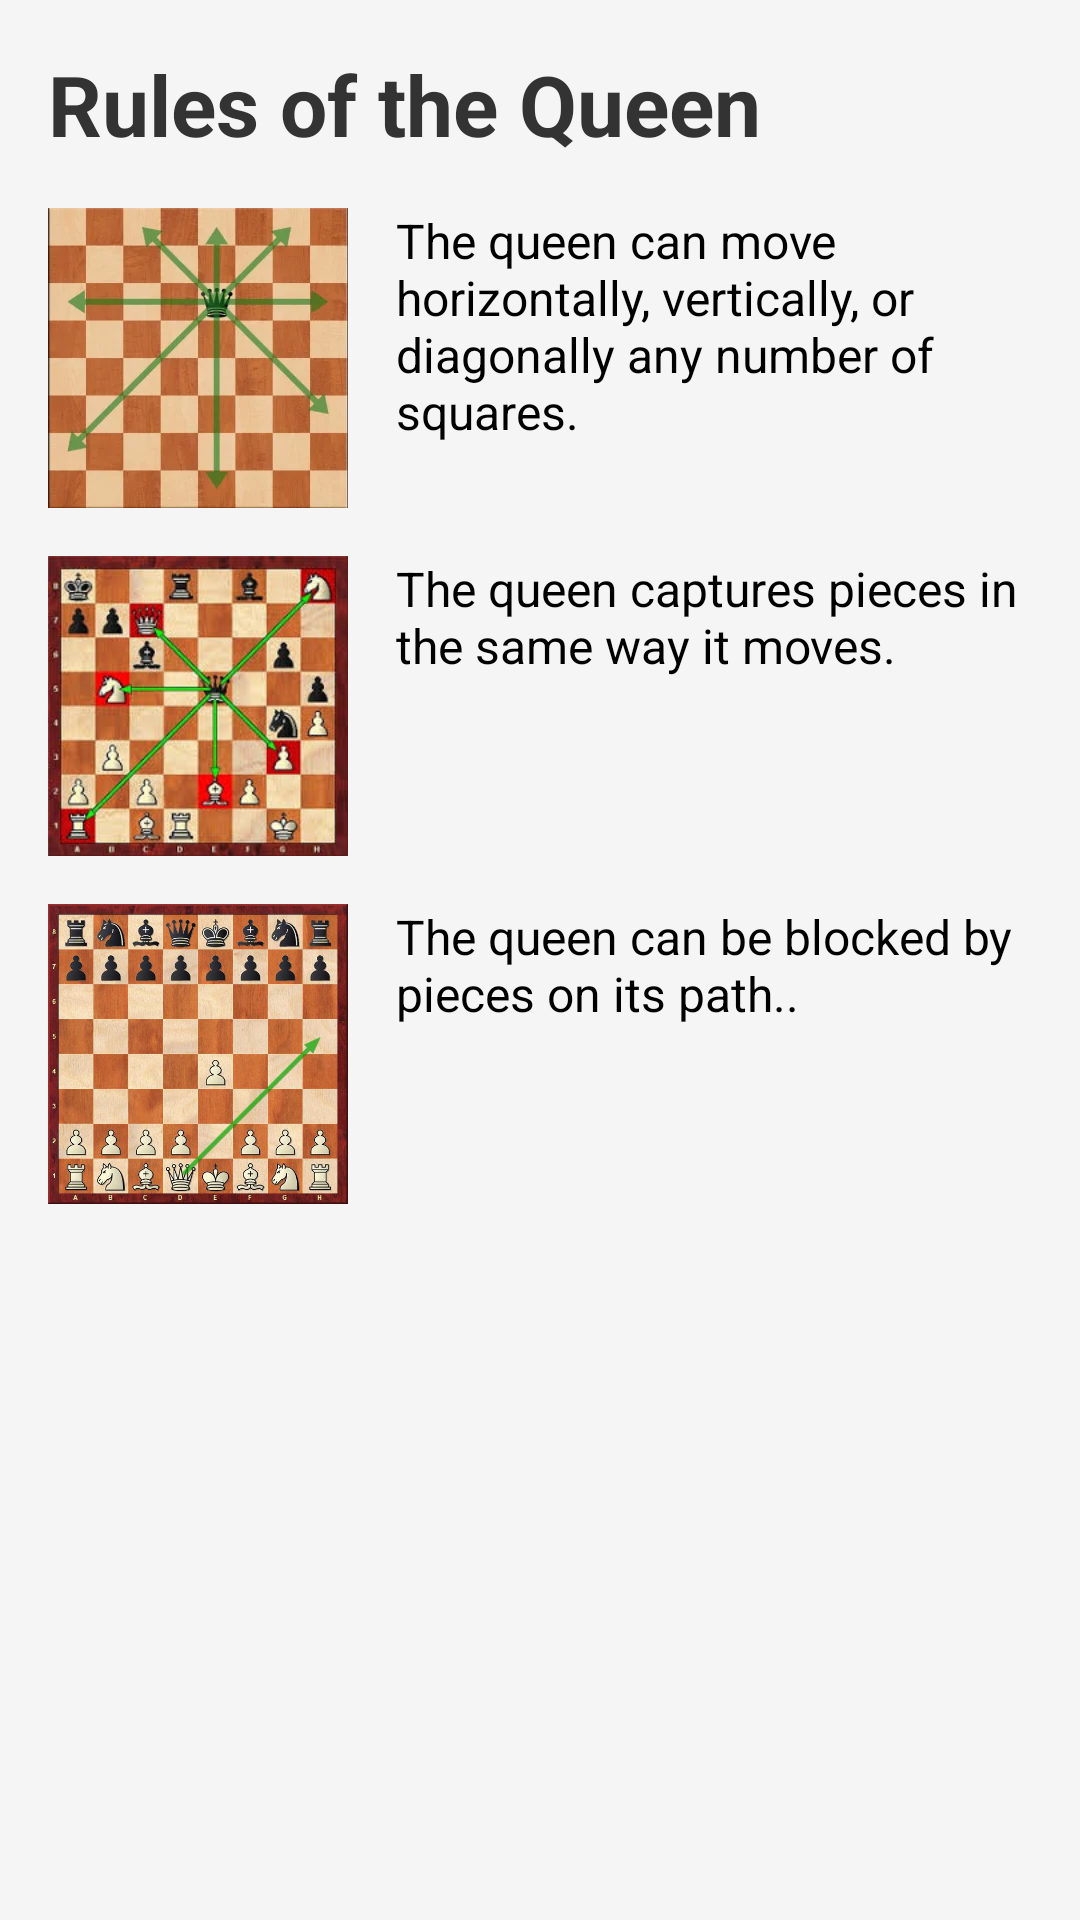

Locate icon controls on the screen. Image size 1080 × 1920, boxes as (x1, y1, x2, y2).
queenattack: (48, 556, 348, 856)
queenblock: (48, 904, 348, 1204)
queenmove: (48, 208, 348, 508)
